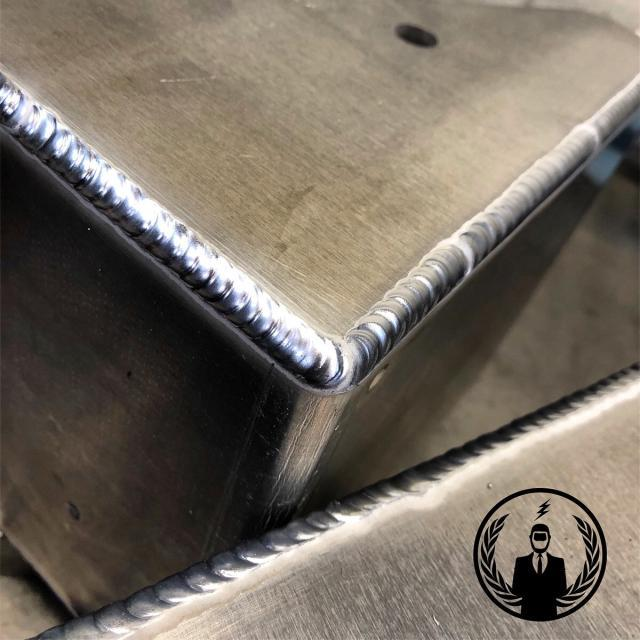Good Welding: (0, 72, 640, 392)
